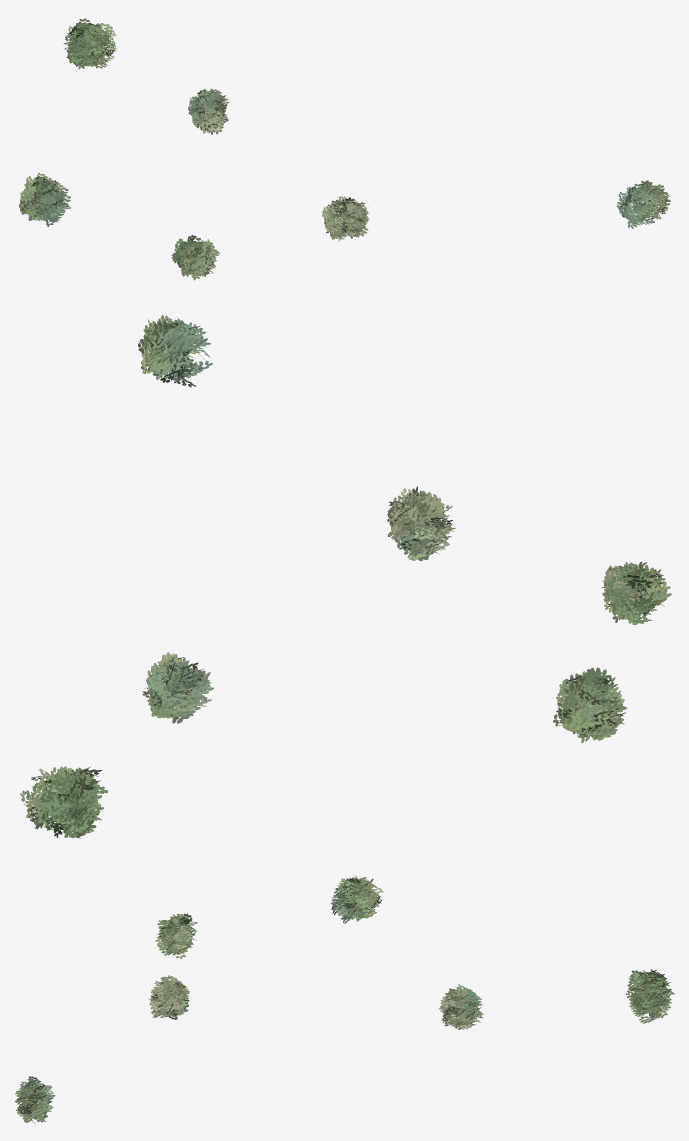
Rendered from campus-tree--5_-2-middle.glb.
The picture shows the model from 3 angles, top to bottom: view 1: azimuth 30°, elevation 25°; view 2: azimuth 150°, elevation 25°; view 3: azimuth 270°, elevation 25°; orthographic projection. The views are drawn at different scales.
Visible parts, largest first — view 1: Campus leaf canopy; view 2: Campus leaf canopy; view 3: Campus leaf canopy.
Boxes of the visible parts, left/top/right/bottom form: Campus leaf canopy: left=18, top=18, right=670, bottom=280; Campus leaf canopy: left=20, top=315, right=671, bottom=838; Campus leaf canopy: left=15, top=875, right=674, bottom=1123.
Bounding box in the file's own units: 55.79 × 6.54 × 66.53.
Materials: 1 (1 with a texture image).
